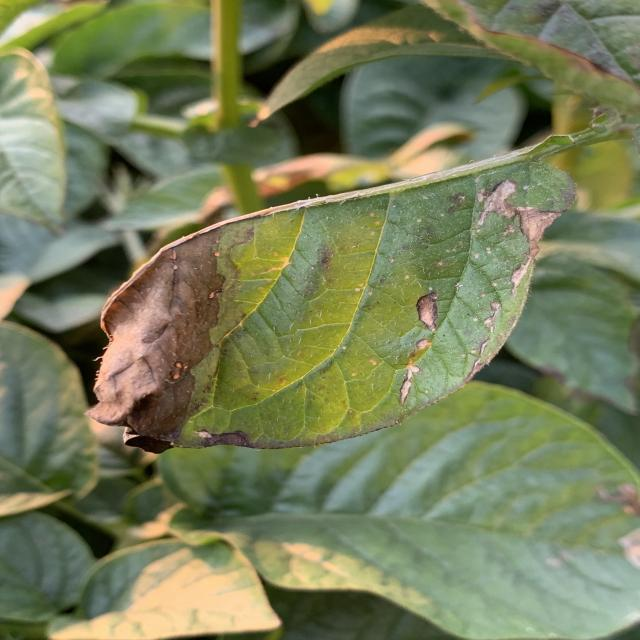lateblight: (88, 226, 225, 441), (477, 180, 560, 256), (400, 339, 432, 404), (417, 291, 438, 331)
